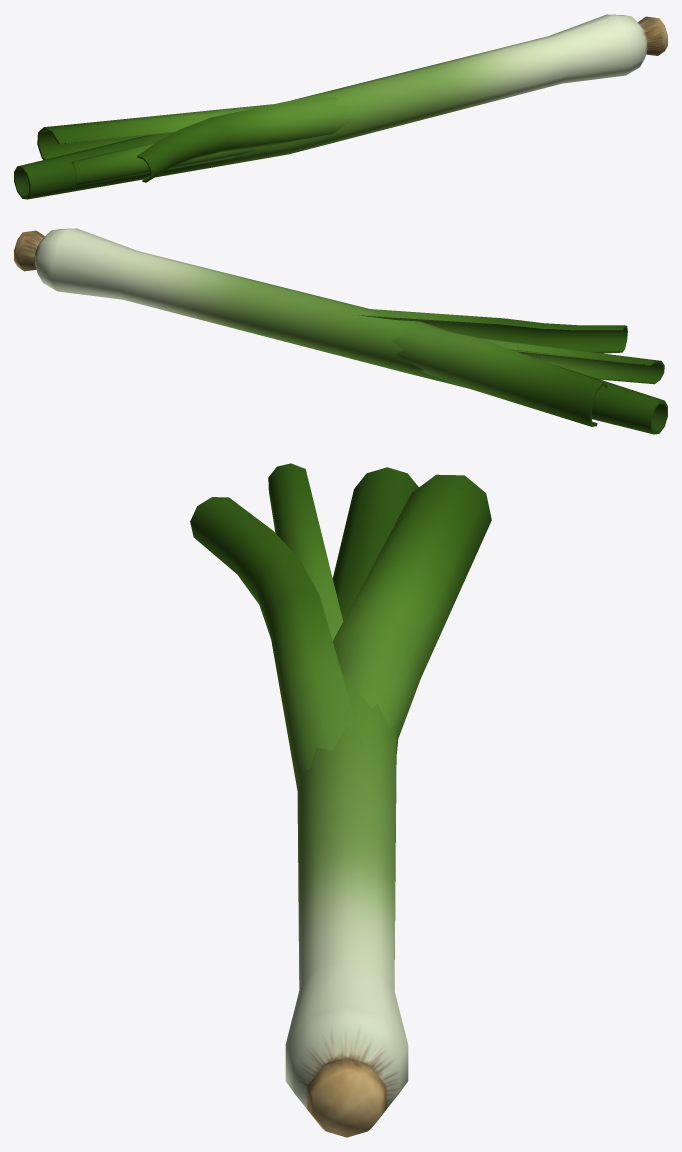
The model's file is Green_Onion_01.fbx.
3 views of the same model, one above another, from view 1: azimuth 30°, elevation 25°; view 2: azimuth 150°, elevation 25°; view 3: azimuth 270°, elevation 25° (orthographic). The views are drawn at different scales.
Visible parts, largest first — view 1: Green_Onion_01; view 2: Green_Onion_01; view 3: Green_Onion_01.
Boxes of the visible parts, x1,y1,x2,y2 form: Green_Onion_01: (14, 14, 667, 199); Green_Onion_01: (14, 228, 667, 434); Green_Onion_01: (190, 463, 491, 1137).
Bounding box in the file's own units: 90.99 × 8.93 × 18.82.
